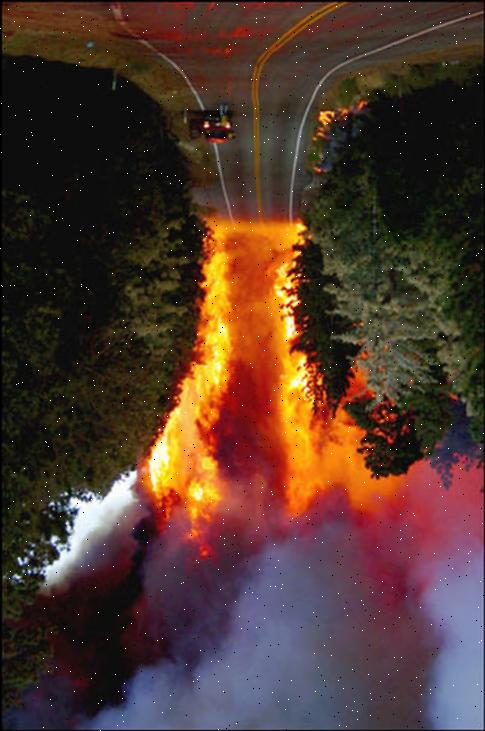fire: (121, 194, 415, 636)
